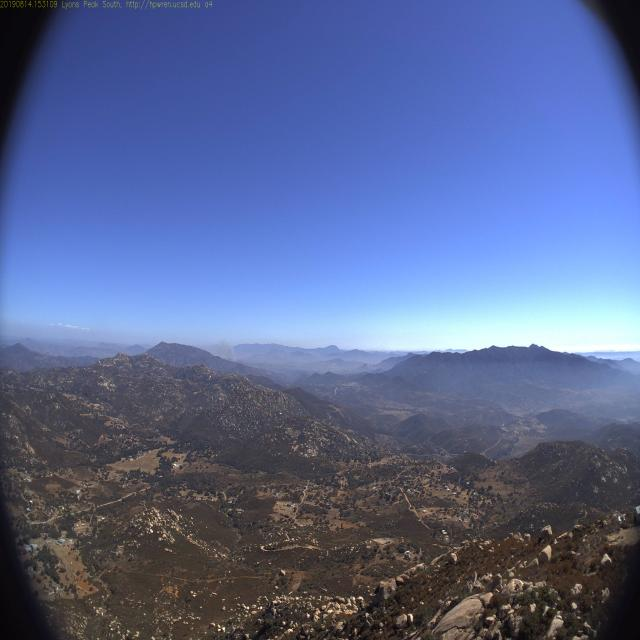smoke: (220, 335, 240, 366)
